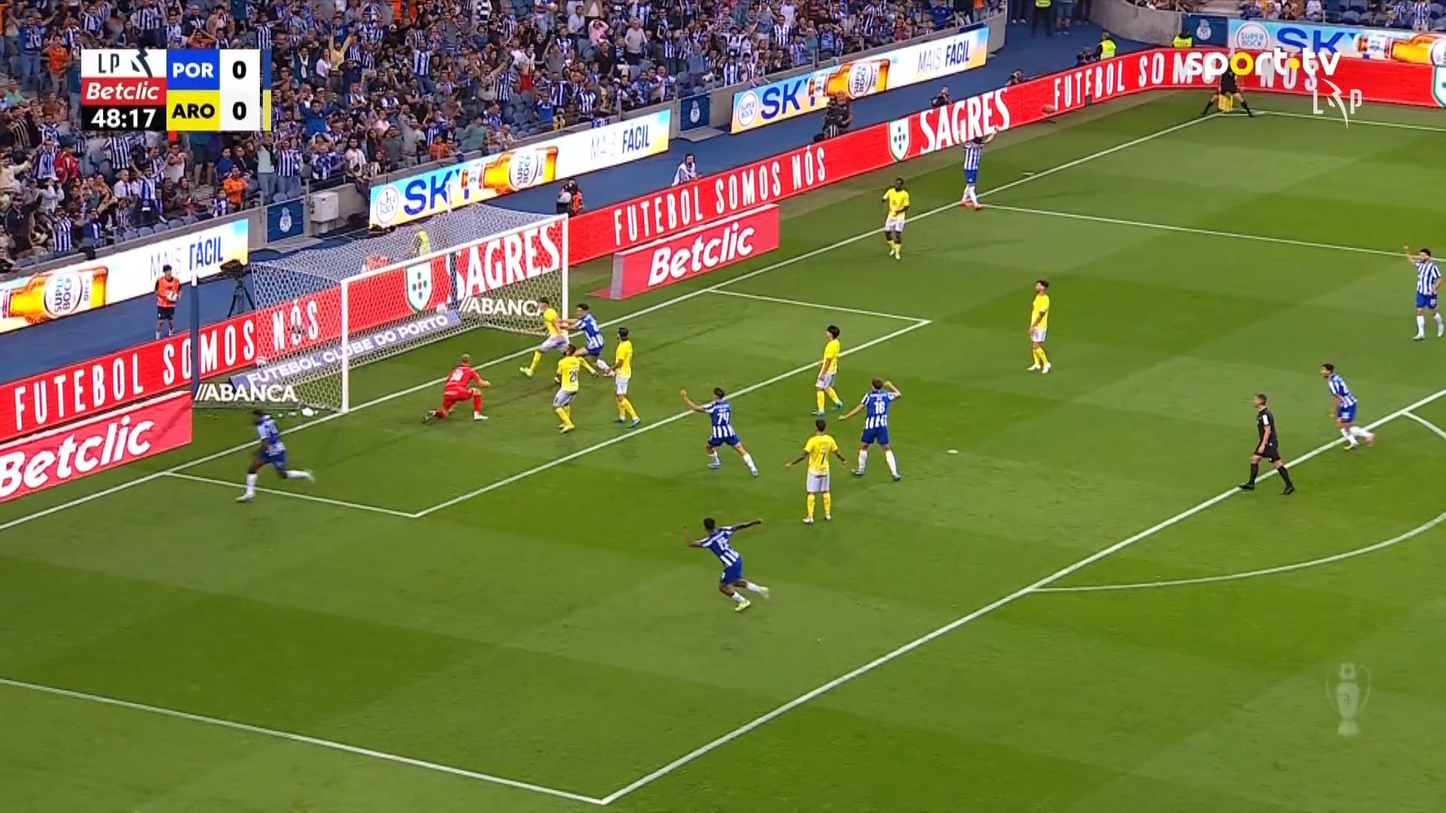ball: (1402, 245, 1408, 251)
goalkeeper: (423, 352, 490, 422)
player: (680, 516, 769, 613), (235, 407, 315, 502), (679, 385, 759, 478), (837, 376, 902, 481), (783, 418, 847, 523), (1319, 361, 1374, 451), (551, 343, 599, 432), (518, 296, 570, 378), (1402, 244, 1444, 340), (602, 326, 640, 428), (956, 123, 998, 210), (566, 302, 609, 377), (810, 324, 844, 416), (880, 176, 910, 260), (1026, 279, 1051, 373)
referee: (1237, 391, 1295, 495), (1202, 66, 1254, 117)
